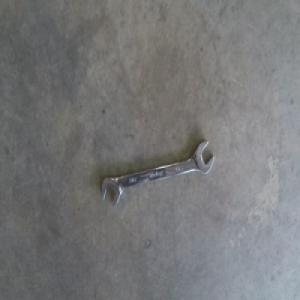Wrench: (101, 143, 213, 210)
